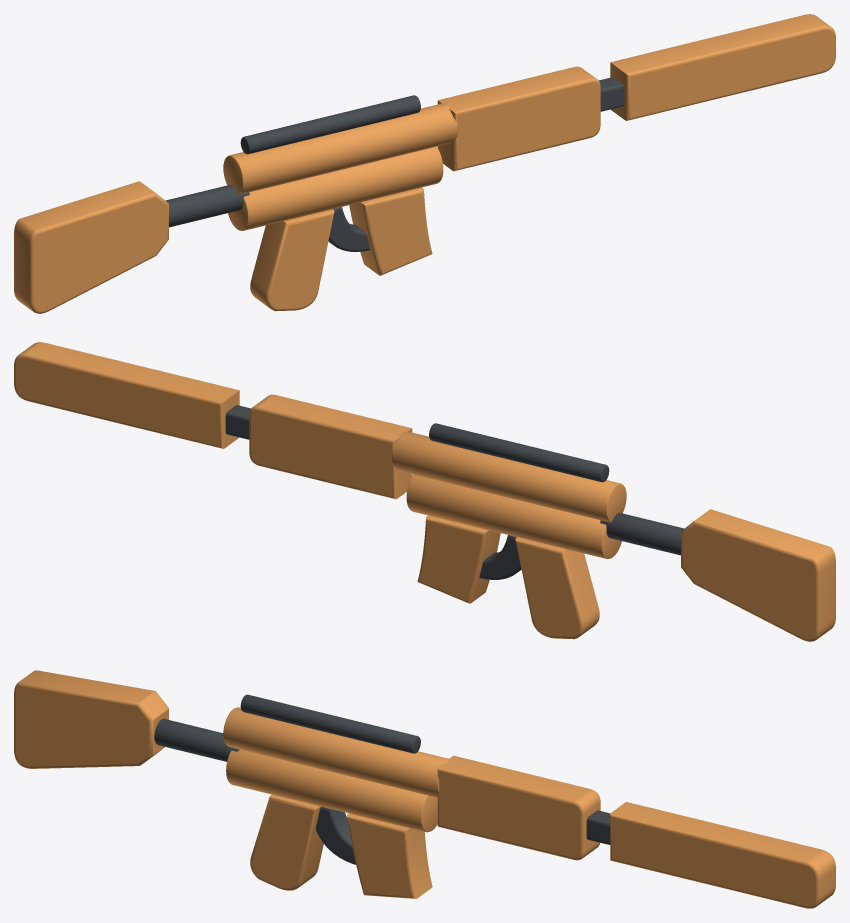
The picture shows the model from 3 angles, top to bottom: view 1: azimuth 30°, elevation 25°; view 2: azimuth 150°, elevation 25°; view 3: azimuth 330°, elevation 25°; orthographic projection.
Visible parts, largest first — view 1: paint_0, paint_10, paint_8, paint_3, paint_2, paint_5, paint_7, metal_4, metal_1, metal_6, metal_9; view 2: paint_0, paint_10, paint_8, paint_3, paint_2, paint_5, paint_7, metal_4, metal_1, metal_6, metal_9; view 3: paint_10, paint_0, paint_8, paint_3, paint_2, paint_7, paint_5, metal_4, metal_1, metal_6, metal_9.
Boxes of the visible parts, x1,y1,x2,y2 form: paint_0: (14, 181, 168, 313); paint_10: (610, 14, 835, 120); paint_8: (437, 66, 600, 171); paint_3: (223, 103, 457, 194); paint_2: (228, 146, 443, 230); paint_5: (250, 209, 334, 311); paint_7: (349, 187, 432, 275); metal_4: (240, 95, 420, 154); metal_1: (165, 184, 249, 227); metal_6: (328, 207, 370, 251); metal_9: (599, 77, 624, 111); paint_0: (681, 509, 835, 641); paint_10: (14, 342, 239, 448); paint_8: (249, 394, 412, 499); paint_3: (392, 431, 626, 522); paint_2: (406, 474, 621, 558); paint_5: (515, 537, 599, 639); paint_7: (417, 515, 500, 603); metal_4: (429, 423, 609, 482); metal_1: (600, 512, 684, 555); metal_6: (479, 535, 521, 579); metal_9: (225, 405, 250, 439); paint_10: (610, 802, 835, 908); paint_0: (14, 670, 168, 768); paint_8: (437, 755, 600, 860); paint_3: (223, 707, 450, 797); paint_2: (226, 749, 437, 832); paint_7: (347, 813, 432, 898); paint_5: (250, 794, 323, 890); metal_4: (240, 694, 420, 753); metal_1: (154, 718, 239, 761); metal_6: (316, 806, 355, 864); metal_9: (586, 810, 610, 844).
Bounding box in the file's own units: 411 × 86.63 × 20.
